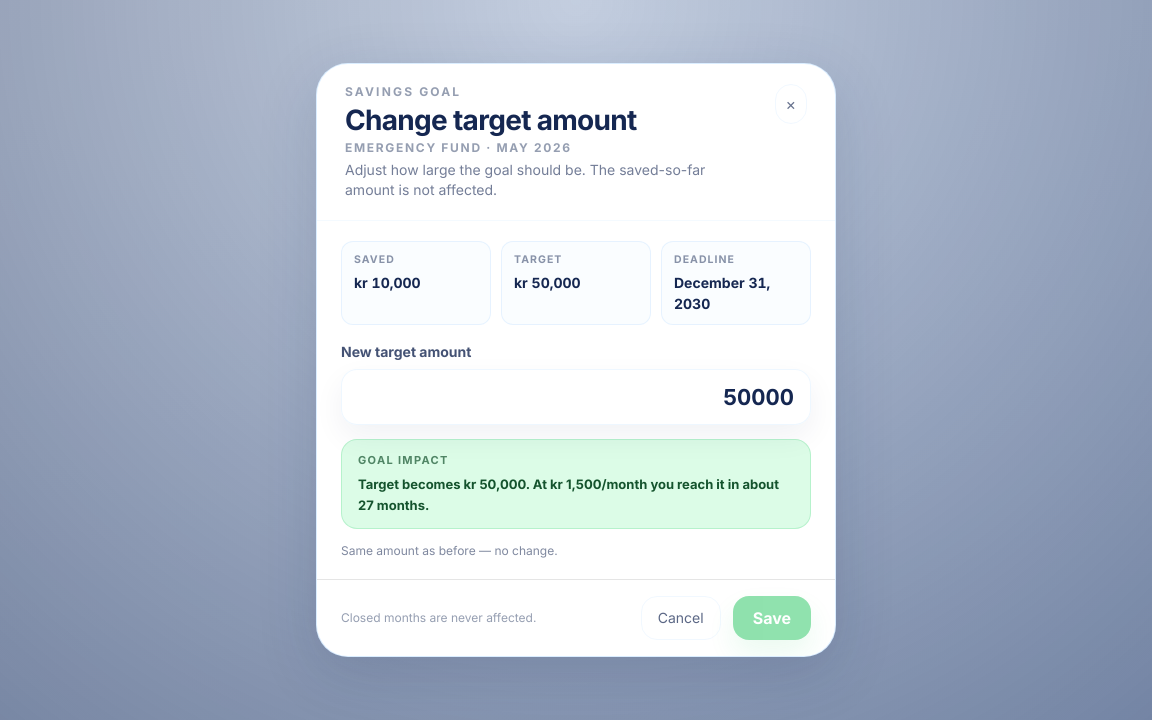
SavingsGoalTargetAmountModal › blocks zero and rejects values with more than 2 decimals
The image size is (1152, 720).
Replace the text in the field labelled "New target amount" with "1234.567" at (576, 397), box [341,369,811,425]
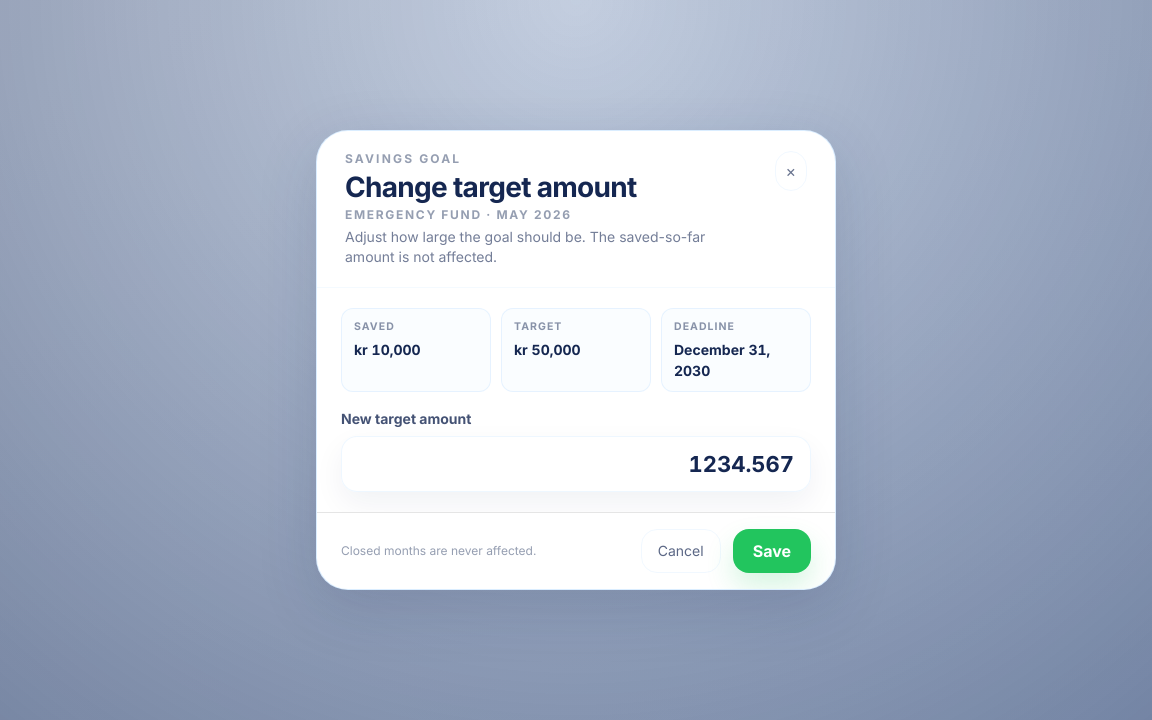
Click the button "Save" at (772, 551), box [733,529,811,573]
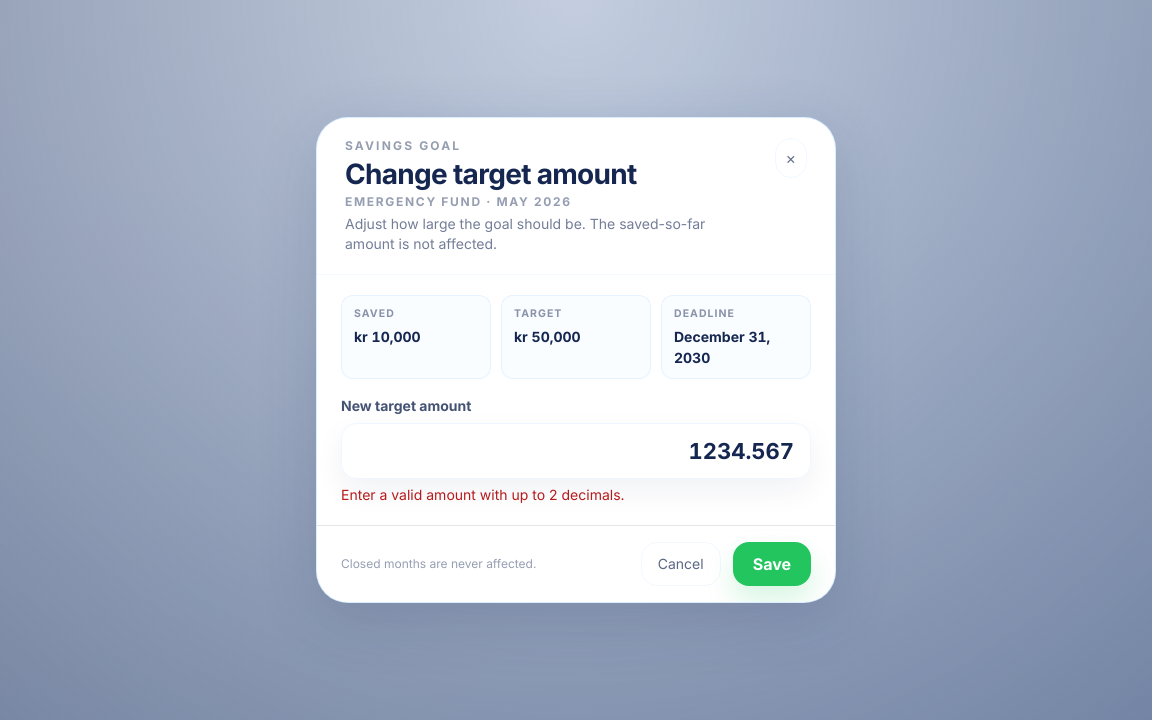
Expected: the text "Enter a valid amount with up to 2 decimals." is shown, [341,486,625,503]
Replace the text in the field labelled "New target amount" with "0" at (576, 451), box [341,423,811,479]
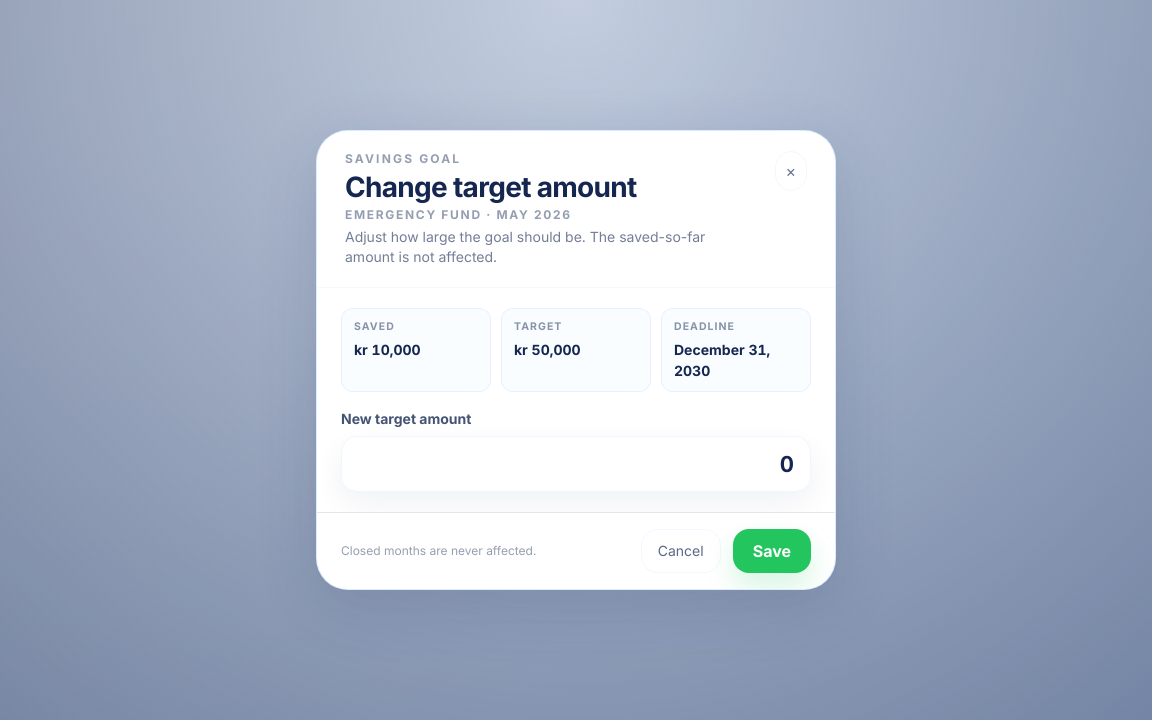
Click the button "Save" at (772, 551), box [733,529,811,573]
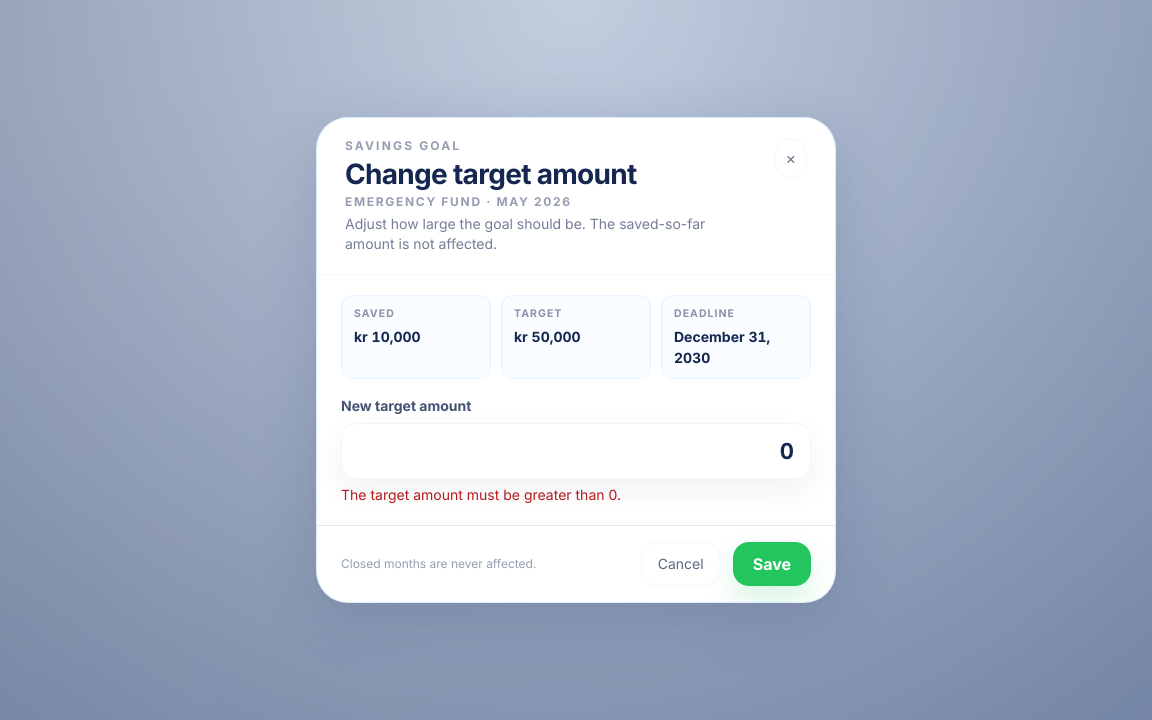
Expected: the text "The target amount must be greater than 0." is shown, [341,486,621,503]
